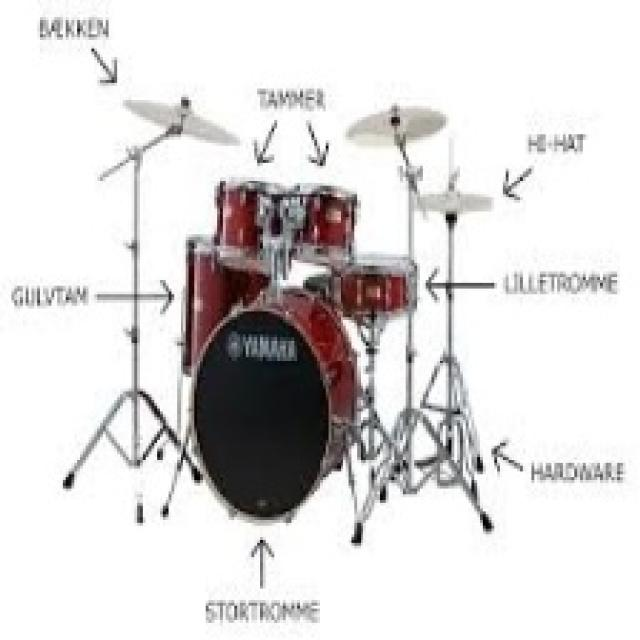drums: (59, 94, 500, 548)
